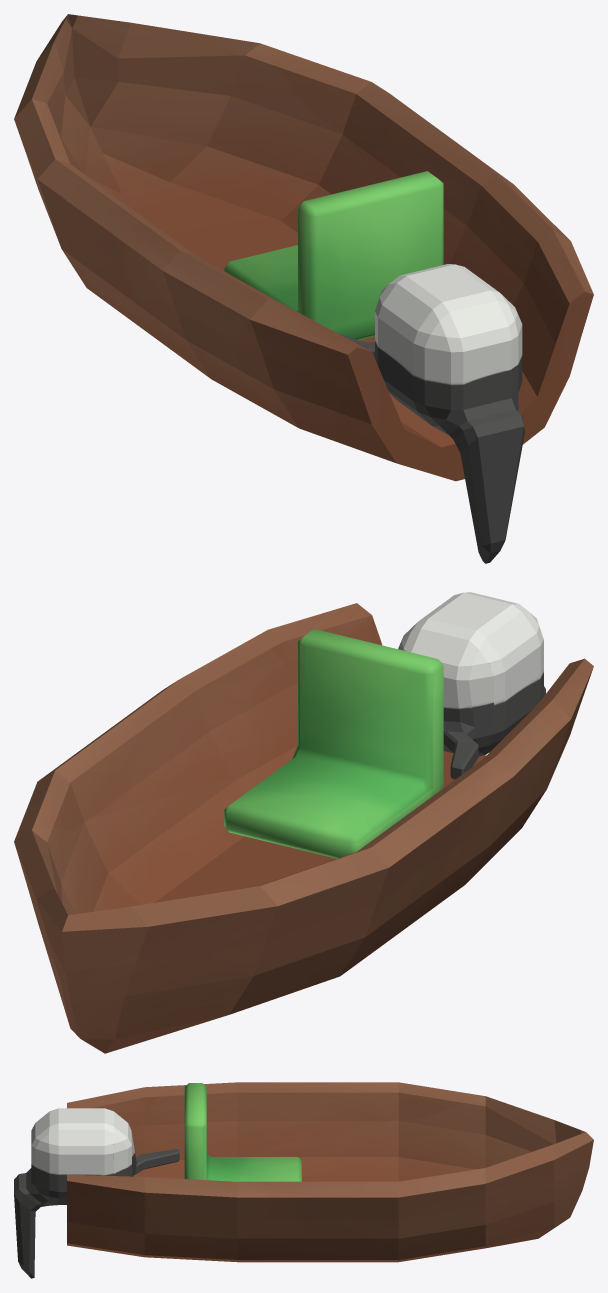
The model's file is boat.fbx.
3 views of the same model, one above another, from view 1: azimuth 30°, elevation 25°; view 2: azimuth 150°, elevation 25°; view 3: azimuth 270°, elevation 25° (orthographic). The views are drawn at different scales.
Parts seen in each view (by area): view 1: Cube, Cube.002, Cube.001; view 2: Cube, Cube.001, Cube.002; view 3: Cube, Cube.002, Cube.001.
Boxes of the visible parts, x1,y1,x2,y2 form: Cube: (14, 14, 593, 481); Cube.002: (337, 264, 524, 563); Cube.001: (224, 171, 443, 340); Cube: (14, 603, 593, 1053); Cube.001: (224, 629, 443, 858); Cube.002: (398, 592, 545, 779); Cube: (67, 1082, 593, 1262); Cube.002: (14, 1108, 179, 1278); Cube.001: (184, 1083, 301, 1181).
Size of the model in its own units: 325 by 245 by 721.
